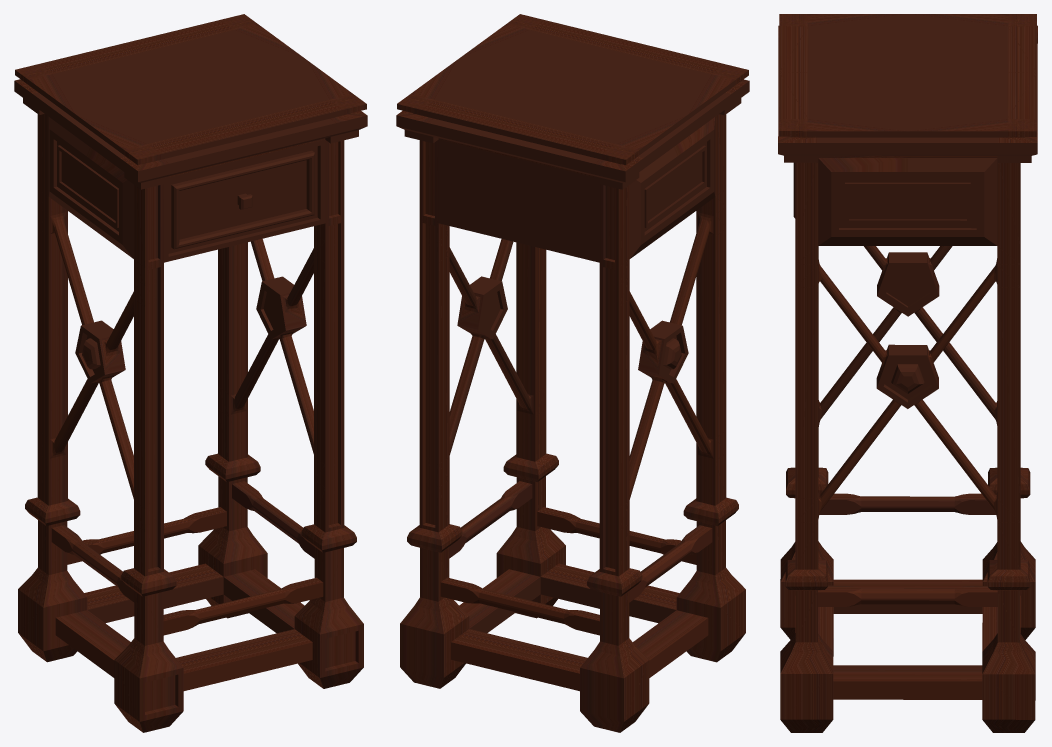
File: tall_table.glb
3 renders of one model, left to right at view 1: azimuth 30°, elevation 25°; view 2: azimuth 150°, elevation 25°; view 3: azimuth 270°, elevation 25°, orthographic. The views are drawn at different scales.
Parts seen in each view (by area): view 1: Circle_0, Circle.001_1; view 2: Circle_0; view 3: Circle_0.
Boxes of the visible parts, x1=… form: Circle_0: x1=14, y1=14, x2=367, y2=732; Circle.001_1: x1=168, y1=146, x2=317, y2=253; Circle_0: x1=396, y1=14, x2=749, y2=732; Circle_0: x1=778, y1=14, x2=1037, y2=732.
Bounding box in the file's own units: 0.7545 × 1.82 × 0.7058.
1 material, 1 textured.
